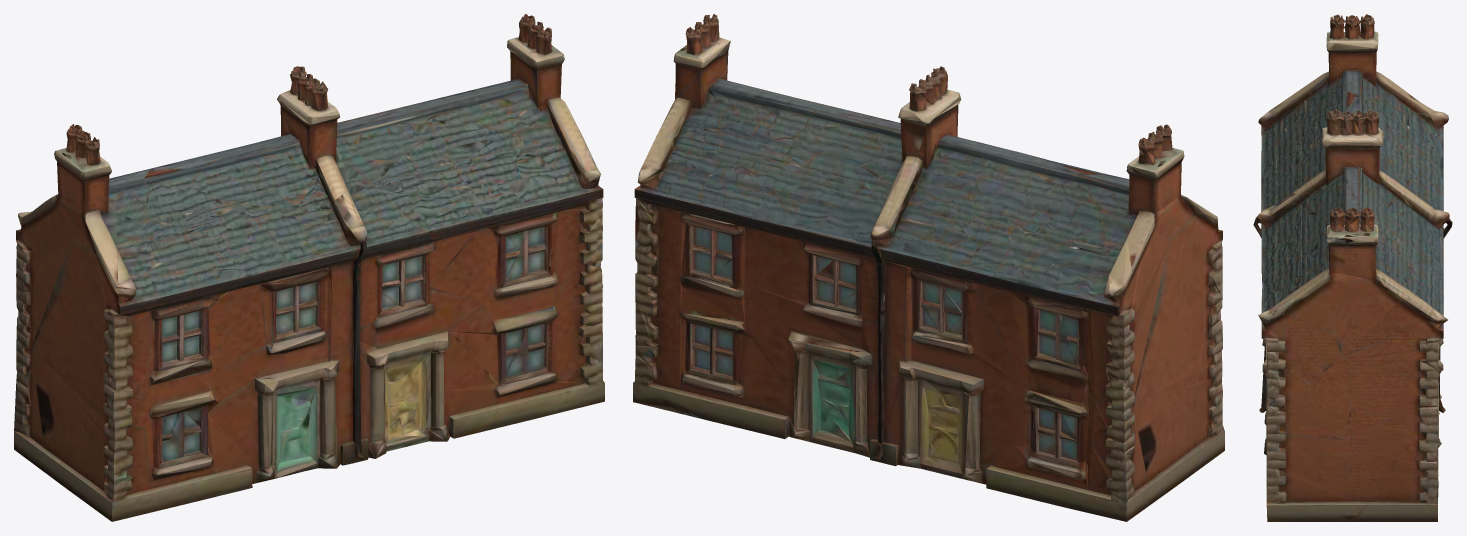
File: terrace_1x2.glb
The picture shows the model from 3 angles, left to right: view 1: azimuth 30°, elevation 25°; view 2: azimuth 150°, elevation 25°; view 3: azimuth 270°, elevation 25°; orthographic projection. The views are drawn at different scales.
Parts seen in each view (by area): view 1: normalize; view 2: normalize; view 3: normalize.
Part boxes in pixels (box(x1,y1,x2,y2)): normalize: box(14, 14, 604, 521); normalize: box(633, 14, 1224, 521); normalize: box(1253, 14, 1452, 521).
Bounding box in the file's own units: 1 × 0.6793 × 0.4004.
1 material, 1 textured.
